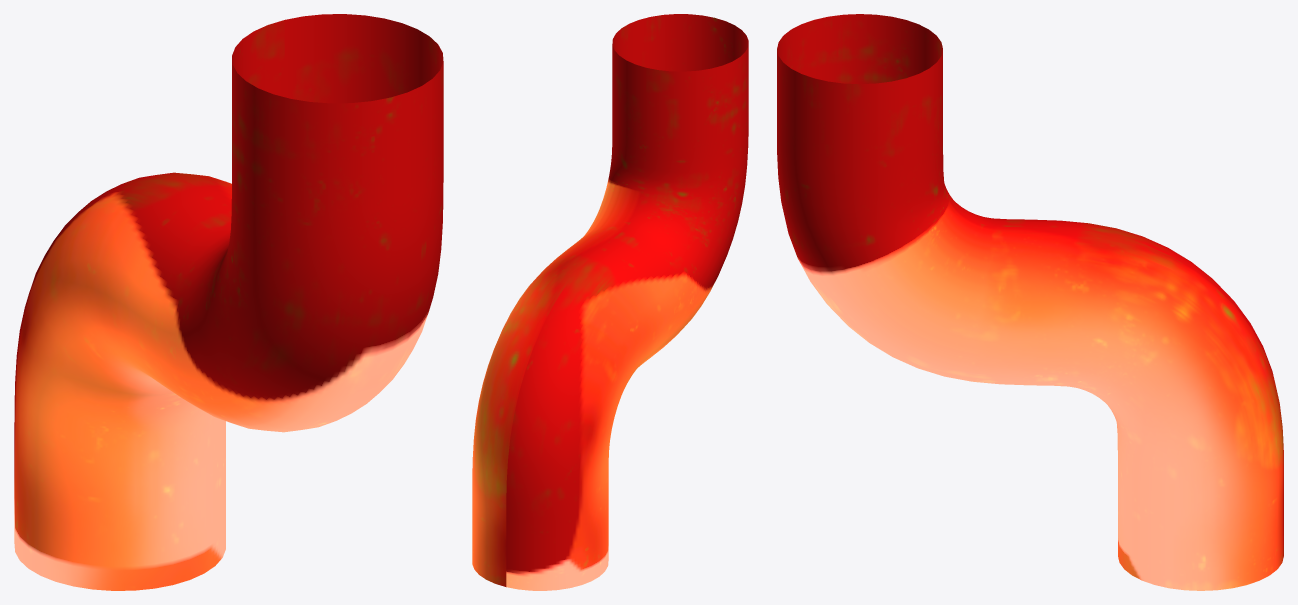
Rendered from SM_PlasticPipe_curv_02.fbx.
3 renders of one model, left to right at view 1: azimuth 30°, elevation 25°; view 2: azimuth 150°, elevation 25°; view 3: azimuth 270°, elevation 25°, orthographic. The views are drawn at different scales.
Visible parts, largest first — view 1: SM_PlasticPipe_curv_02_LOD0; view 2: SM_PlasticPipe_curv_02_LOD0; view 3: SM_PlasticPipe_curv_02_LOD0.
Boxes of the visible parts, left/top/right/bottom form: SM_PlasticPipe_curv_02_LOD0: left=14, top=14, right=443, bottom=590; SM_PlasticPipe_curv_02_LOD0: left=472, top=14, right=748, bottom=590; SM_PlasticPipe_curv_02_LOD0: left=777, top=14, right=1283, bottom=590.
Size of the model in its own units: 14.85 by 45.33 by 50.
